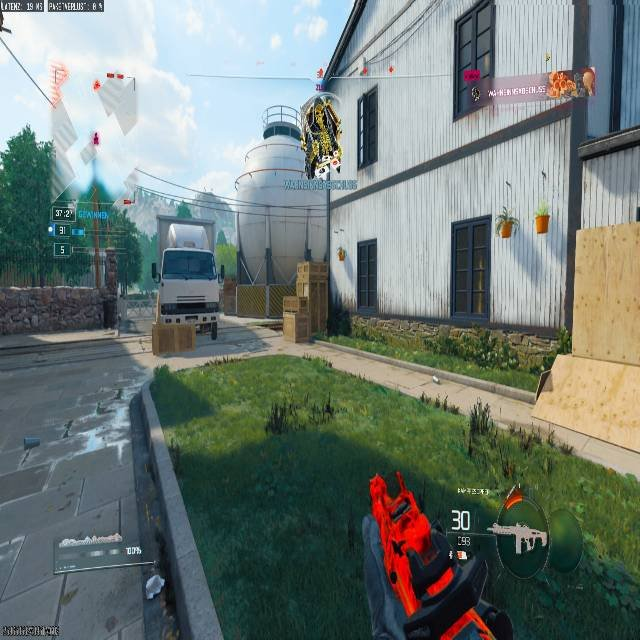player: (298, 92, 343, 177), (200, 313, 217, 339), (337, 246, 345, 261)
